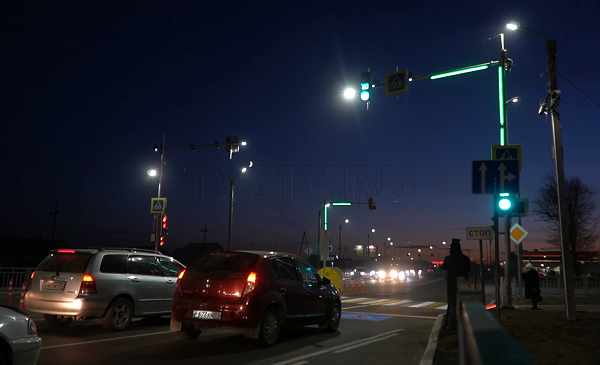tl: (494, 193, 528, 217), (353, 68, 375, 105)
